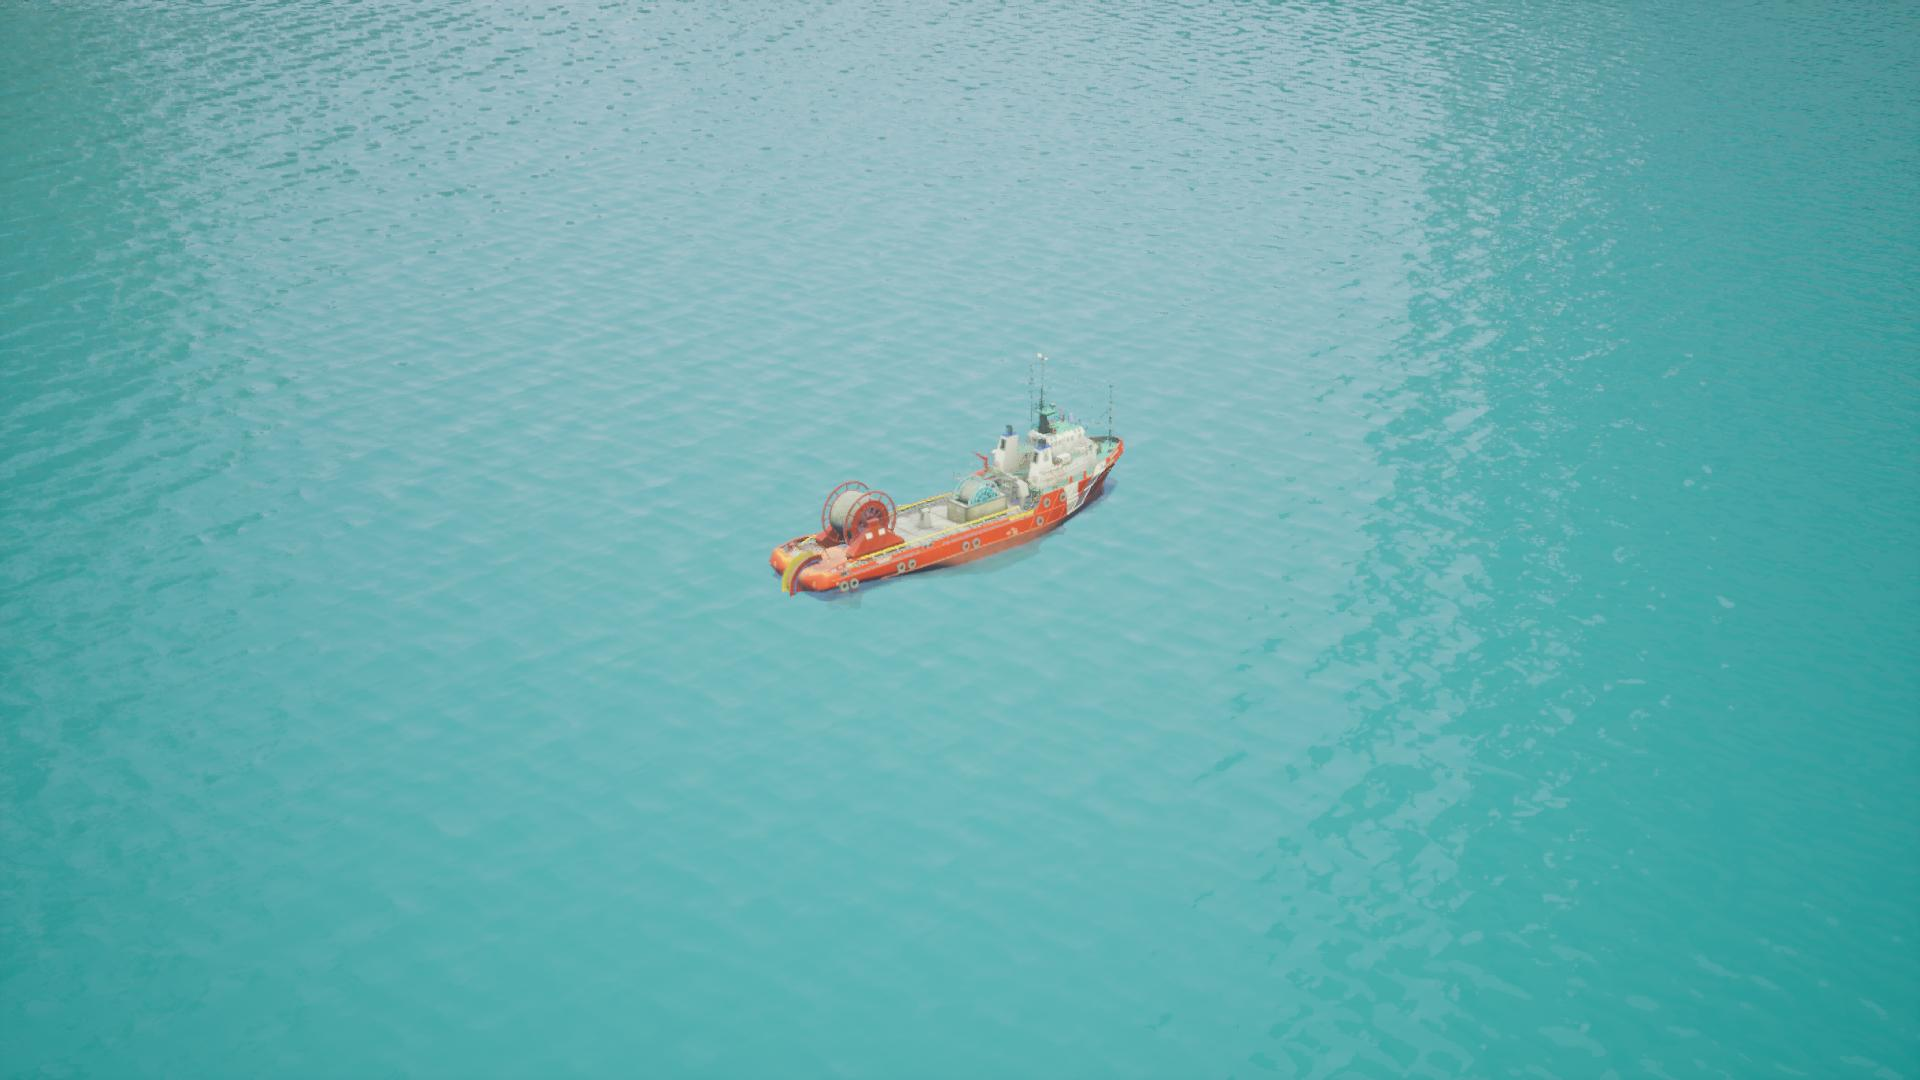Tug Boat: (769, 385, 1124, 601)
